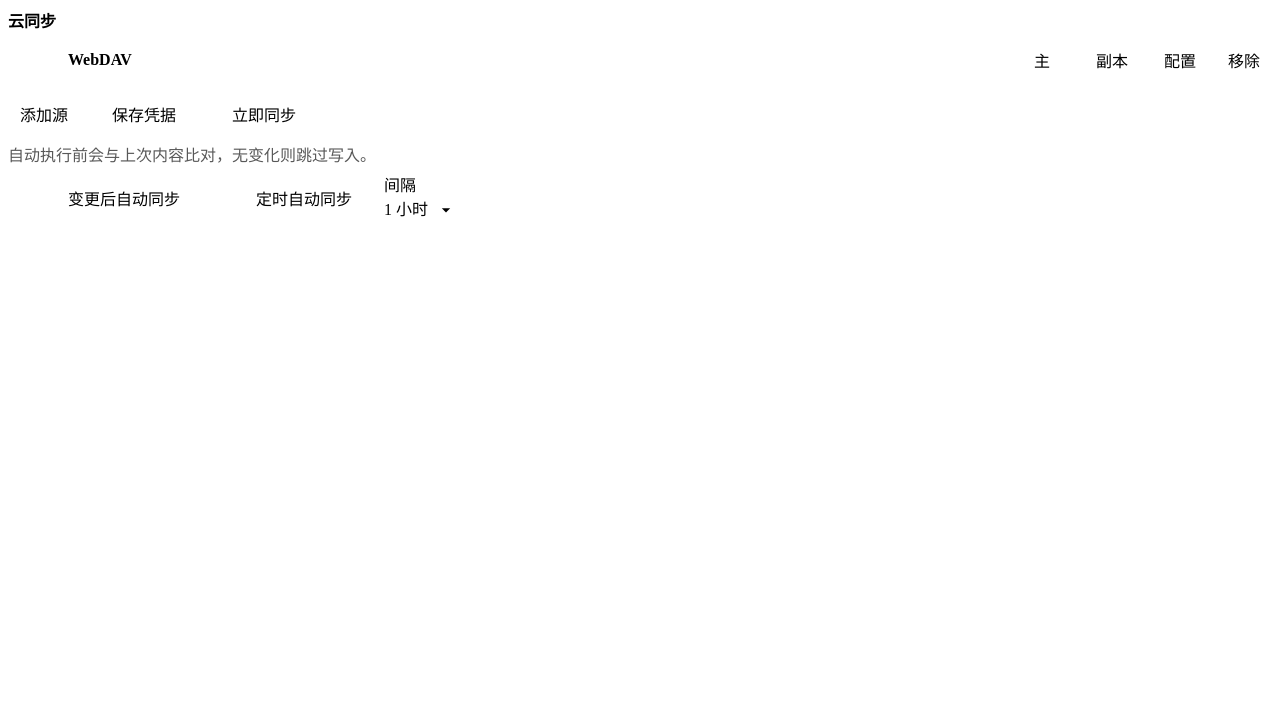
Scenario: CloudCard（多源） › ②配置展开：凭据字段回填已存值、显示名称/保留策略/目标路径框（placeholder=缺省路径）
Click the button with class "target-toggle" at point(1180, 60), box [1152,40,1208,80]
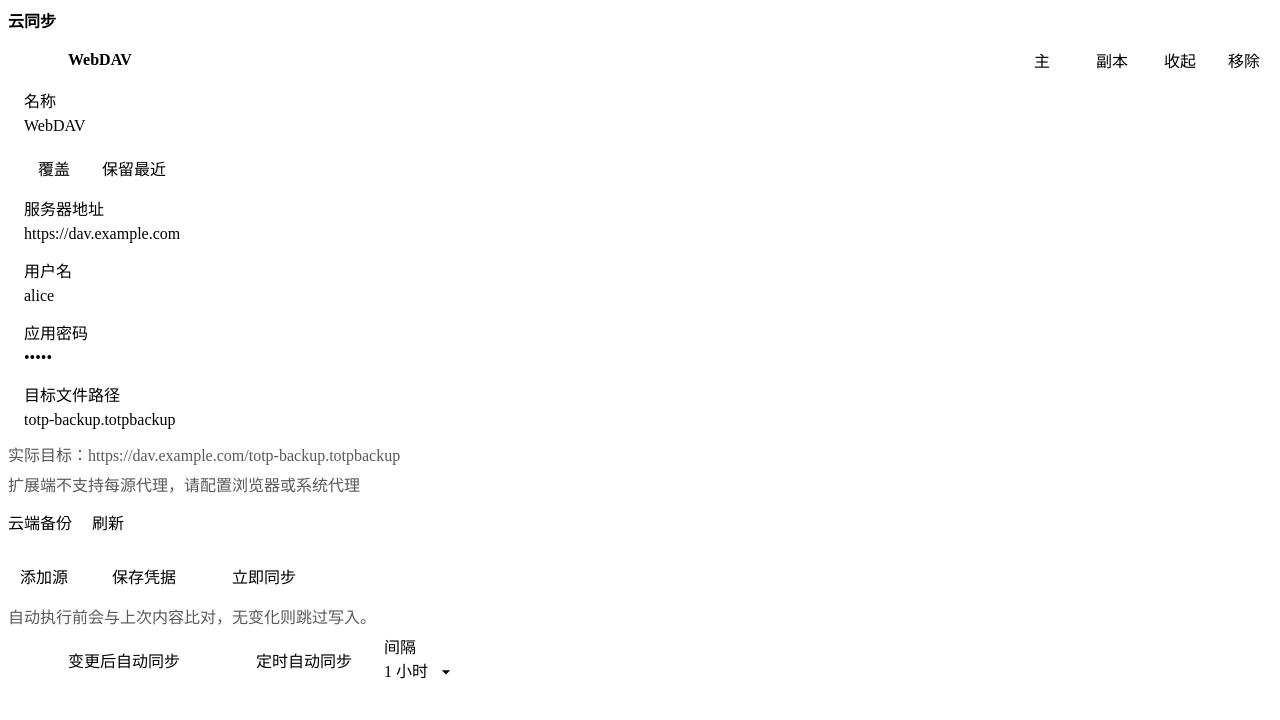
expect the field with placeholder "服务器地址（https://dav.example.com）" holds "https://dav.example.com": met, box [24,222,1256,246]
expect the field named "源名称" holds "WebDAV": met, box [24,114,1256,138]
expect the element named "保留策略" is shown: met, box [8,148,182,188]
